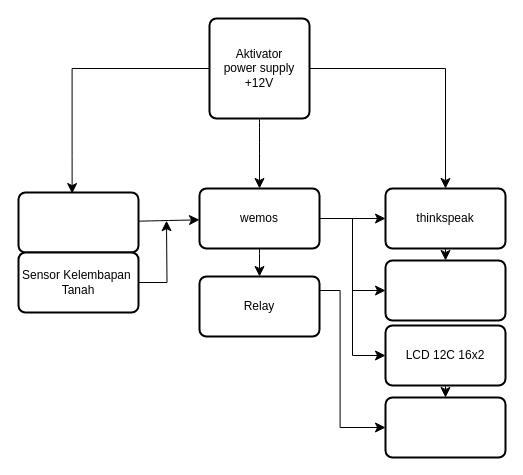
Some shapes in this 523 by 475 pixel diagram are drawn without their labels. The shapes that lost their labels are listed below. From the top down, each one's centre as x and y in pixels, then its label:
(x=78, y=222): Sensor suhu DHT22
(x=445, y=290): kipas
(x=445, y=427): pompa
